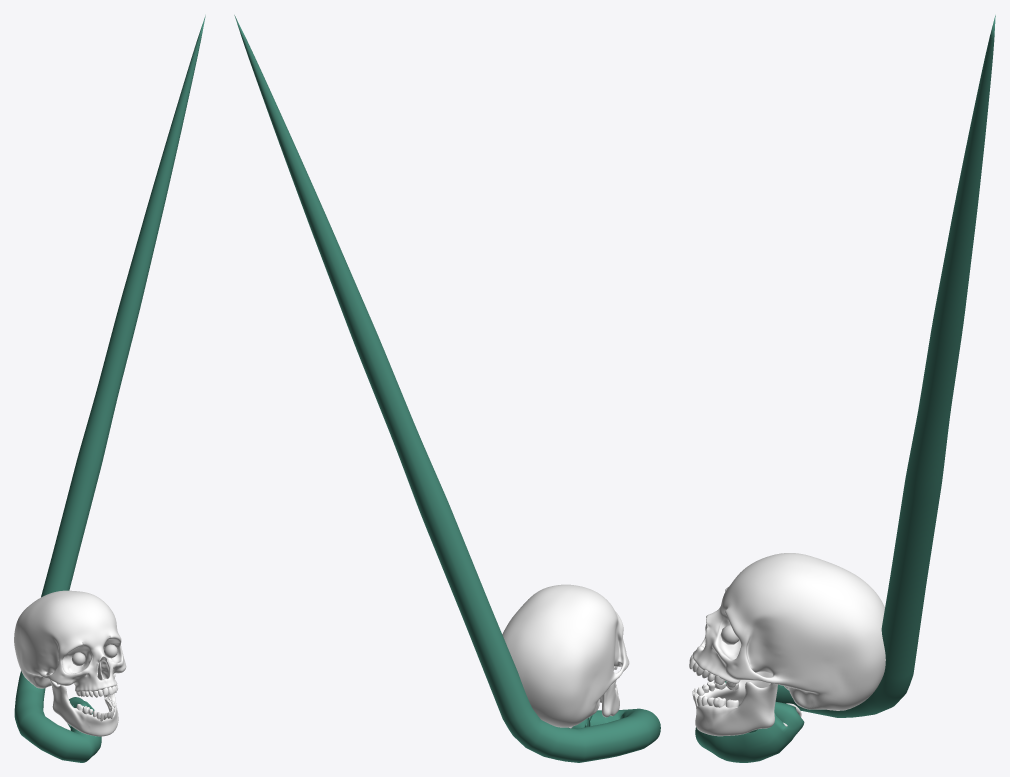
File: darkmark2.fbx
3 views of the same model, side by side, from view 1: azimuth 30°, elevation 25°; view 2: azimuth 150°, elevation 25°; view 3: azimuth 270°, elevation 25° (orthographic). The views are drawn at different scales.
Visible parts, largest first — view 1: Snake.001, Skull; view 2: Snake.001, Skull; view 3: Skull, Snake.001.
Boxes of the visible parts, x1,y1,x2,y2 form: Snake.001: (14,15,205,762); Skull: (14,590,126,736); Snake.001: (234,15,660,762); Skull: (502,584,629,727); Skull: (689,553,885,736); Snake.001: (695,15,995,762).
Size of the model in its own units: 6799 by 15243 by 4737.
